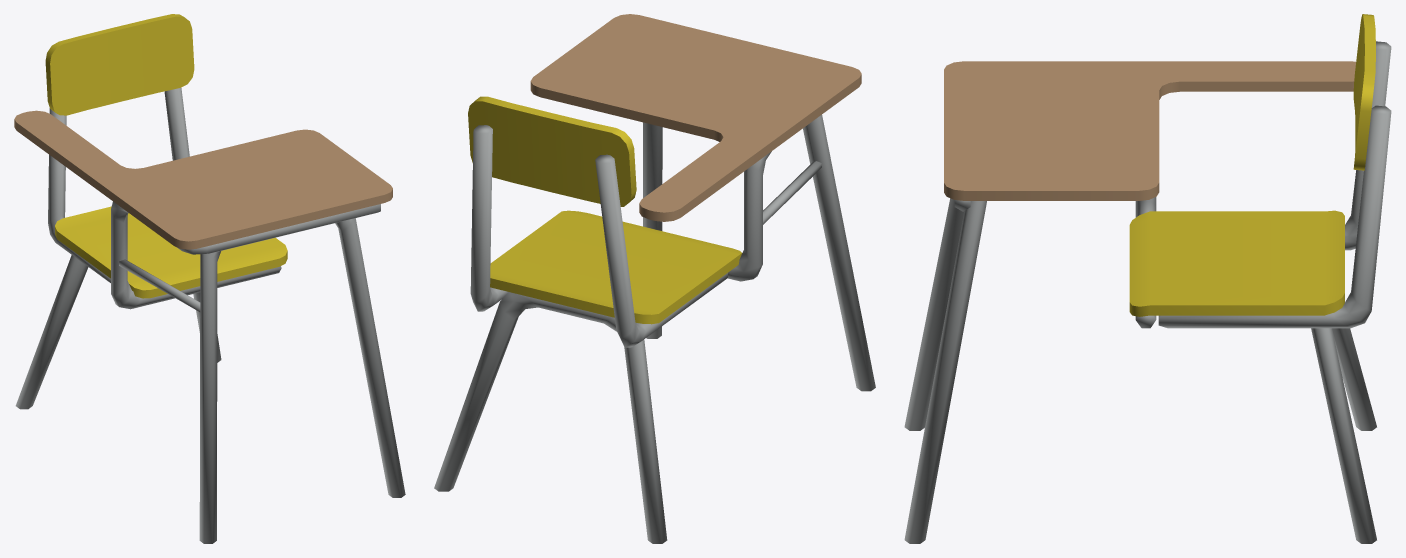
The model's file is Desk.fbx.
The picture shows the model from 3 angles, left to right: view 1: azimuth 30°, elevation 25°; view 2: azimuth 150°, elevation 25°; view 3: azimuth 270°, elevation 25°; orthographic projection. The views are drawn at different scales.
Visible parts, largest first — view 1: Desk; view 2: Desk; view 3: Desk.
Boxes of the visible parts, box(x1,y1,x2,y2) form: Desk: box(14, 14, 405, 543); Desk: box(434, 14, 875, 543); Desk: box(904, 14, 1391, 543).
Bounding box in the file's own units: 56.04 × 87.47 × 88.99.
1 material, 1 textured.
